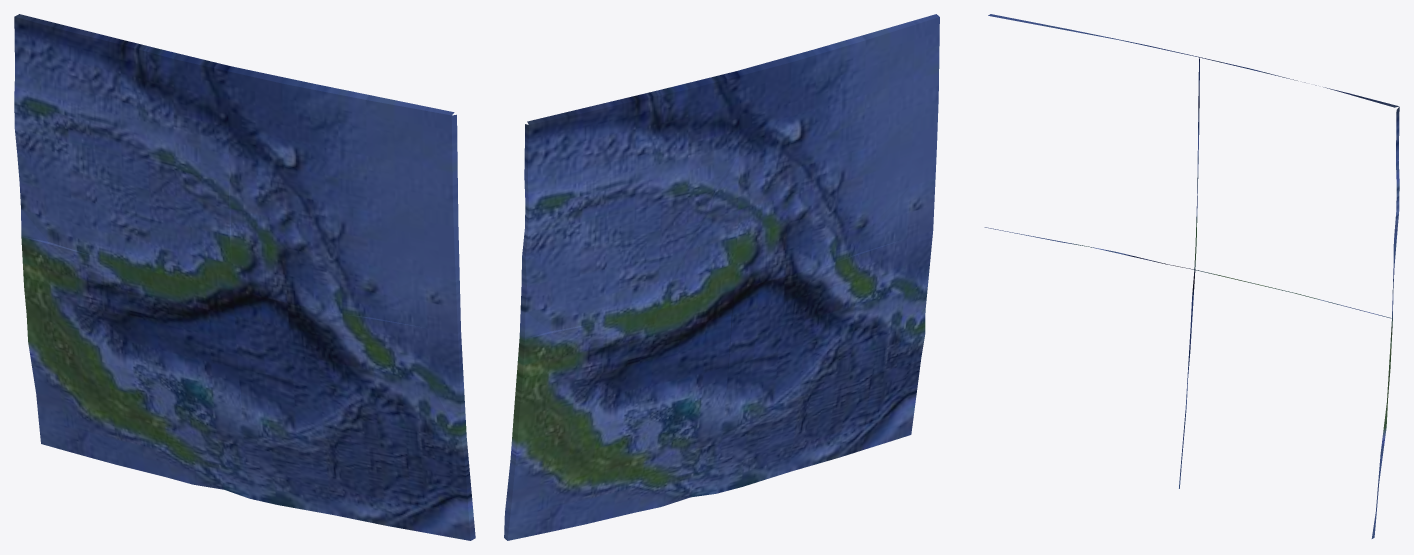
3 renders of one model, left to right at view 1: azimuth 90°, elevation 25°; view 2: azimuth 150°, elevation 25°; view 3: azimuth 270°, elevation 25°, orthographic. The views are drawn at different scales.
Size of the model in its own units: 709498 by 1251716 by 1168422.
1 material, 1 textured.
